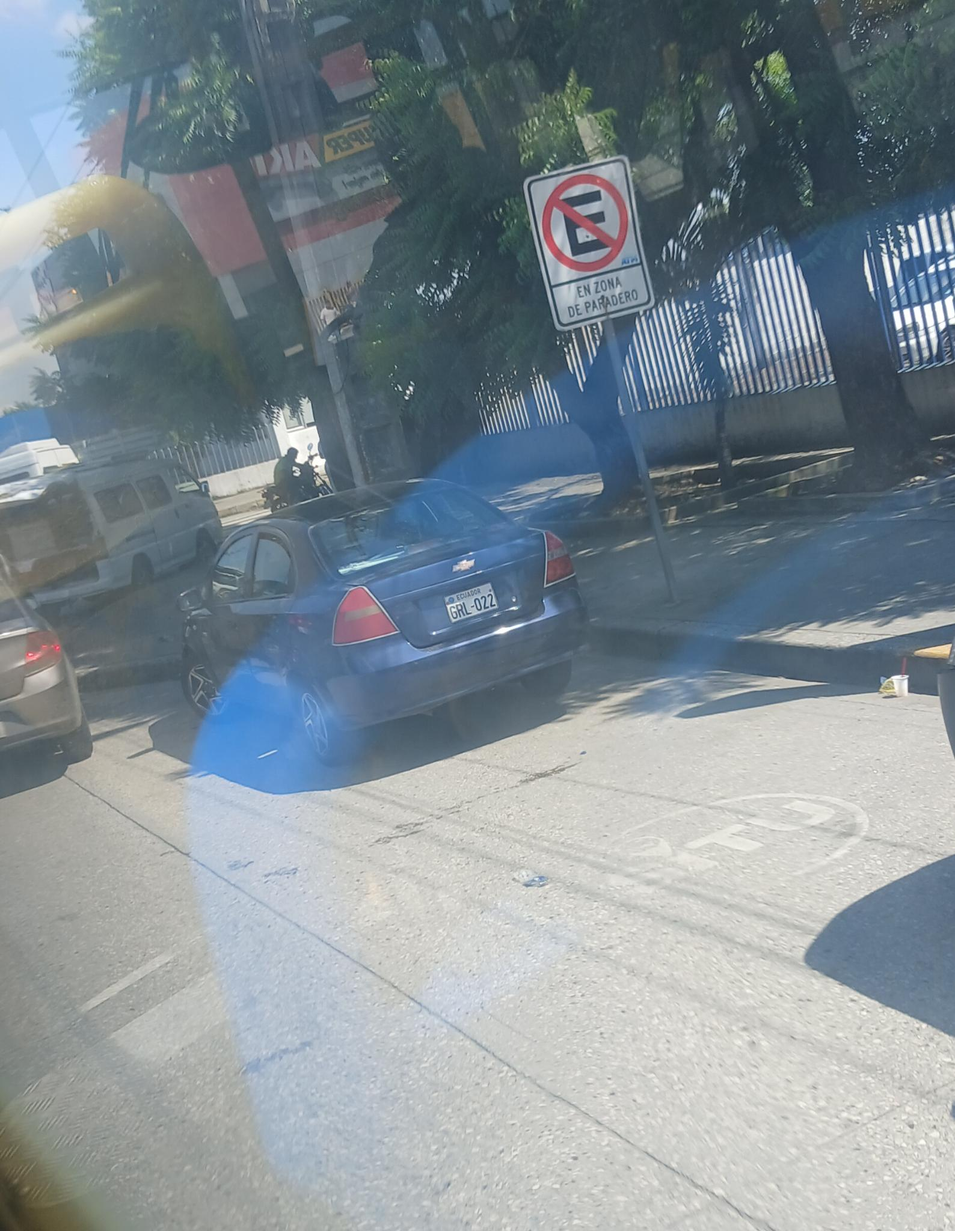license_plate: (444, 582, 499, 622)
